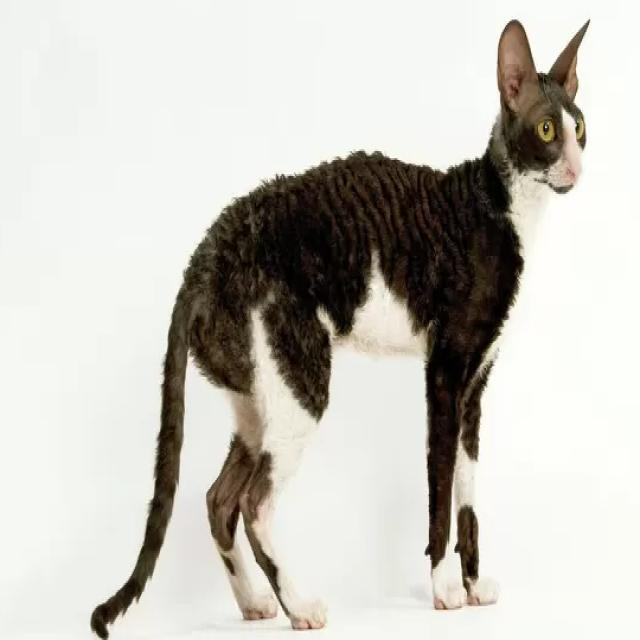Cornish Rex: (86, 5, 594, 640)
